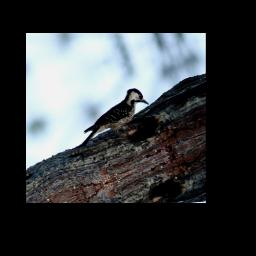Woodpecker: (68, 82, 158, 161)
